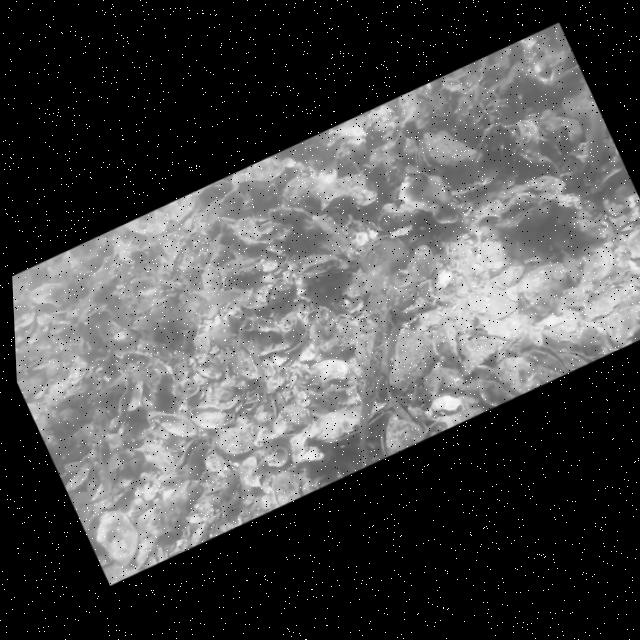Oyster-Closed: (302, 387, 396, 453), (510, 253, 582, 325), (228, 147, 303, 202), (491, 189, 562, 238), (290, 246, 345, 288), (265, 397, 315, 442), (262, 462, 307, 508), (538, 316, 583, 359), (220, 247, 266, 288), (378, 192, 419, 231), (498, 328, 537, 362), (409, 143, 434, 176)
Oyster-Indeterminate: (371, 319, 446, 393), (491, 337, 565, 402), (311, 163, 383, 225), (89, 503, 149, 571), (273, 165, 334, 221), (209, 410, 271, 465), (24, 274, 75, 318), (398, 240, 443, 286)
Oyster-Open: (412, 115, 480, 181), (369, 406, 426, 459), (303, 349, 357, 403), (162, 432, 217, 484), (522, 331, 572, 386), (554, 335, 594, 375)
